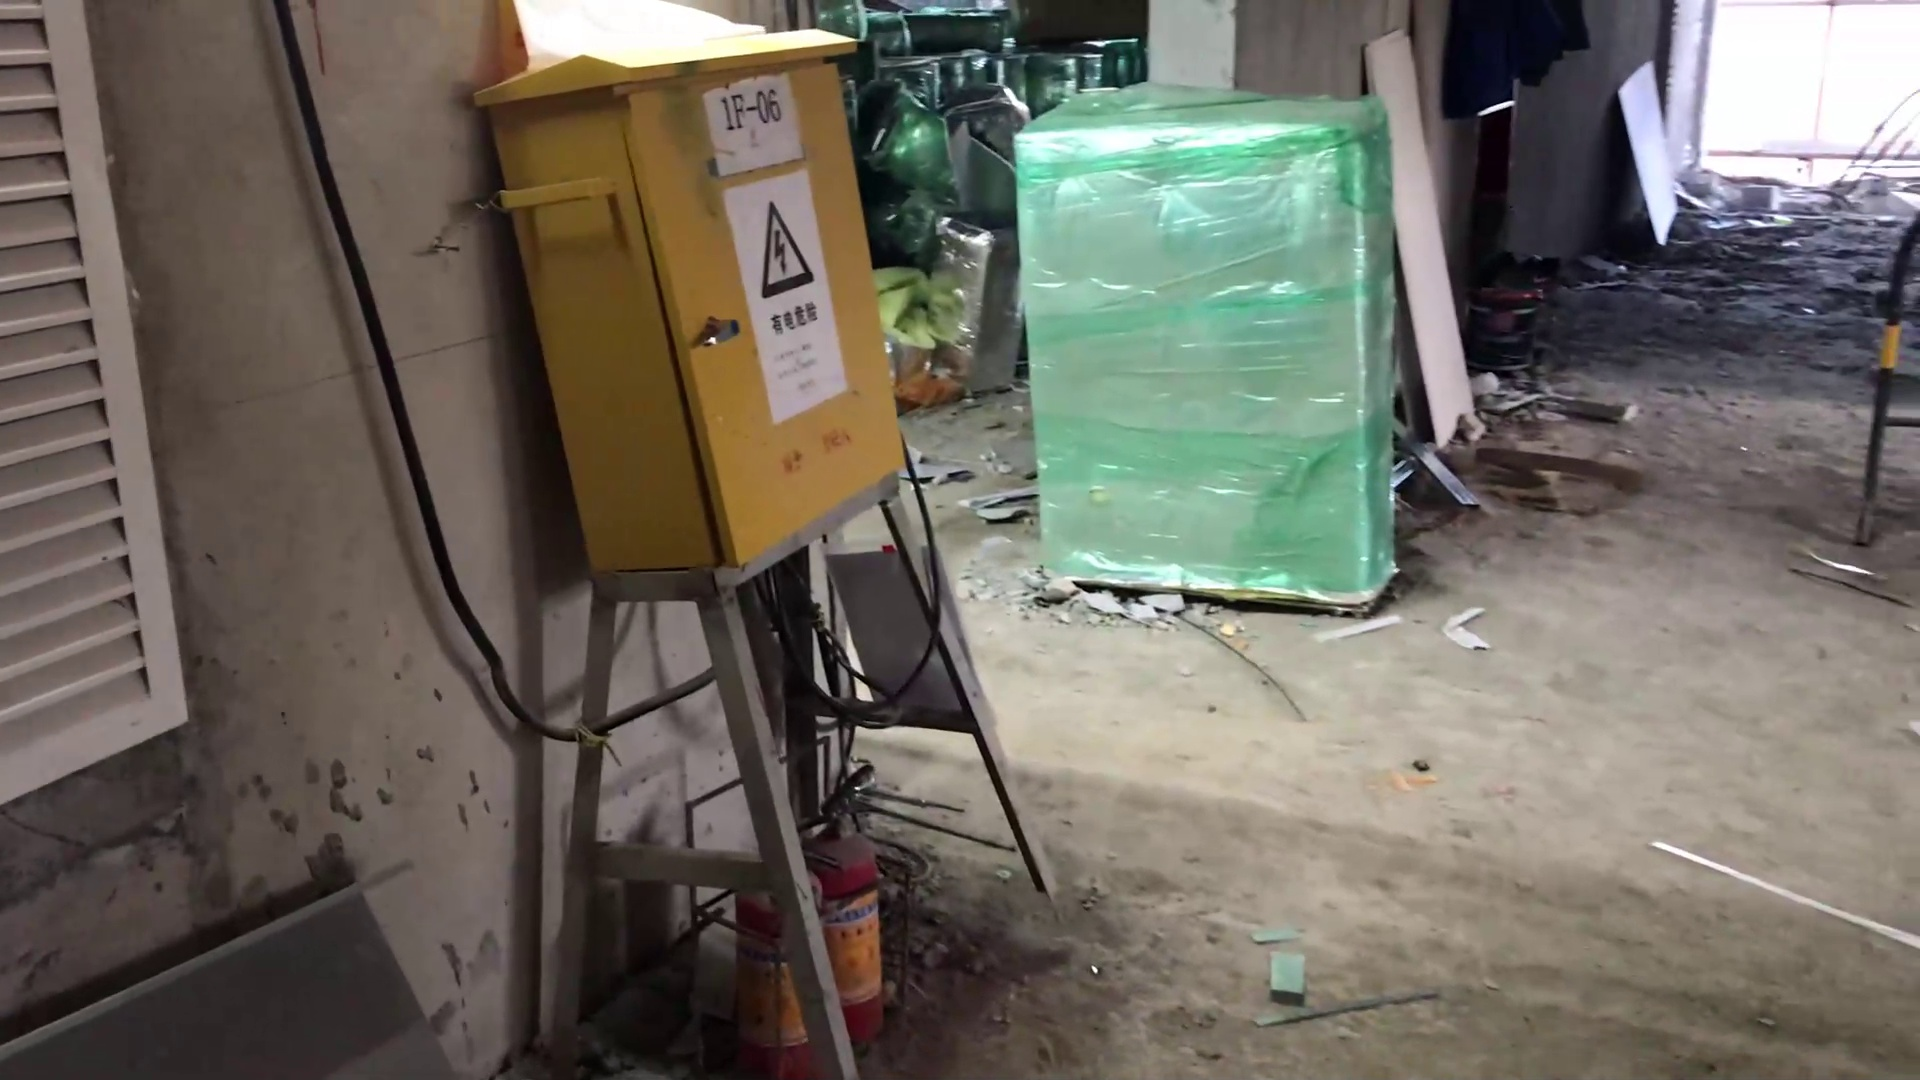ebox: (455, 12, 1080, 1080)
